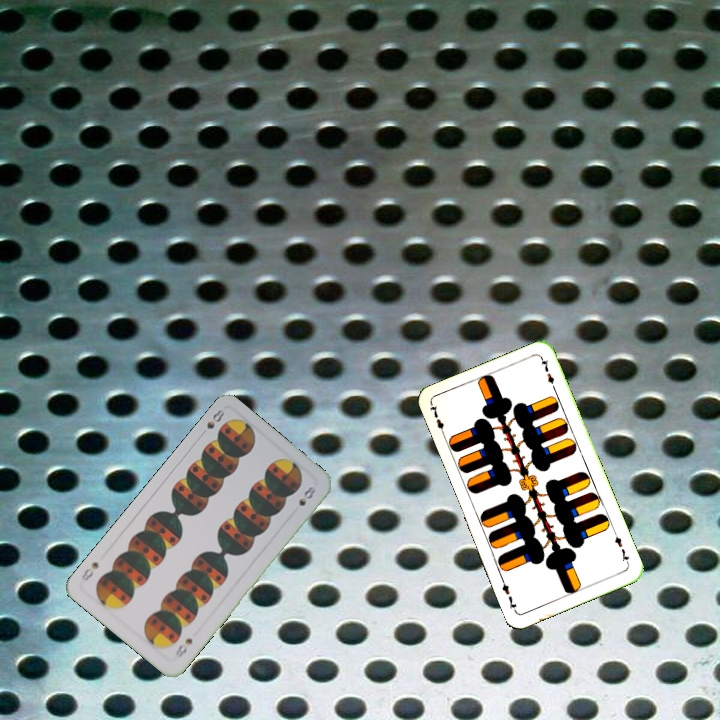E7: (610, 529, 632, 567), (426, 401, 448, 439)
S8: (196, 405, 227, 439), (171, 634, 195, 661)
